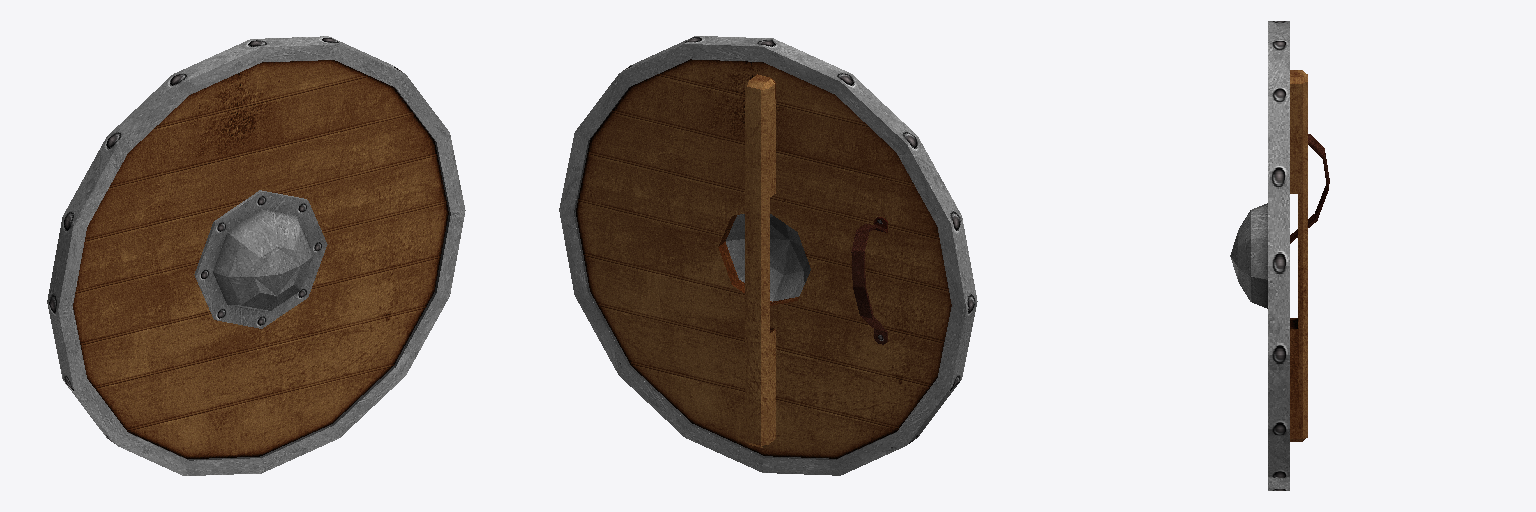
3 renders of one model, left to right at view 1: azimuth 30°, elevation 25°; view 2: azimuth 150°, elevation 25°; view 3: azimuth 270°, elevation 25°, orthographic.
Parts seen in each view (by area): view 1: Shield; view 2: Shield; view 3: Shield.
Boxes of the visible parts, box(x1,y1,x2,y2) form: Shield: box(47, 36, 465, 475); Shield: box(559, 36, 977, 475); Shield: box(1230, 21, 1329, 490).
Size of the model in its own units: 1.76 by 1.76 by 0.3727.
Materials: 1 (1 with a texture image).